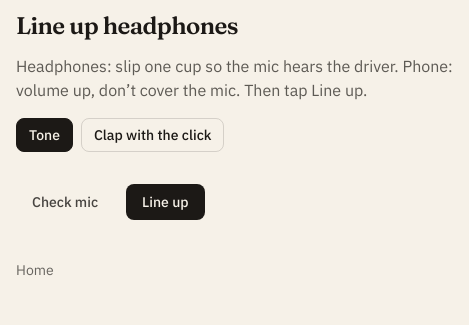
Test: CalibrationPage › lets Line up again run another measurement
Click the button "Line up" at (165, 202), box [126,184,205,220]
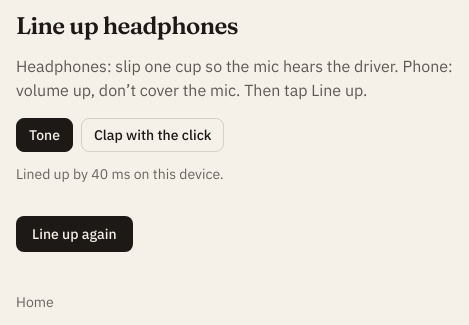
Expected: the text "Lined up by 40 ms on this device." is shown, [16,165,224,183]
Click the button "Line up again" at (74, 234), box [16,216,132,252]
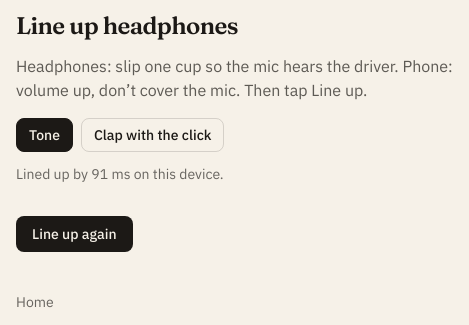
Expected: the text "Lined up by 91 ms on this device." is shown, [16,165,224,183]
